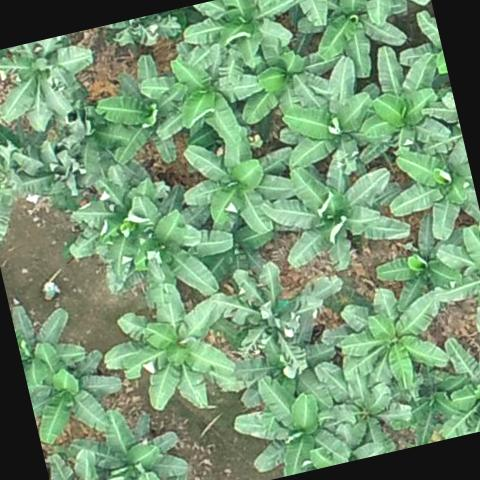Banana-plant: (95, 278, 248, 426), (262, 144, 412, 278), (217, 252, 357, 381), (174, 122, 303, 248), (138, 35, 272, 155), (320, 279, 452, 399), (59, 170, 177, 300), (224, 364, 348, 480), (268, 54, 379, 178), (220, 318, 346, 421), (346, 37, 450, 159), (374, 138, 480, 251), (128, 207, 242, 308), (0, 30, 103, 138), (93, 53, 183, 176), (22, 345, 128, 447), (232, 26, 342, 124), (321, 369, 419, 461), (308, 0, 419, 81), (178, 0, 309, 68), (8, 289, 90, 387), (0, 115, 61, 243), (371, 235, 467, 314), (90, 406, 191, 480), (424, 225, 480, 344), (423, 325, 480, 439), (202, 212, 284, 289), (396, 370, 466, 438), (318, 0, 432, 30), (45, 446, 128, 480)
